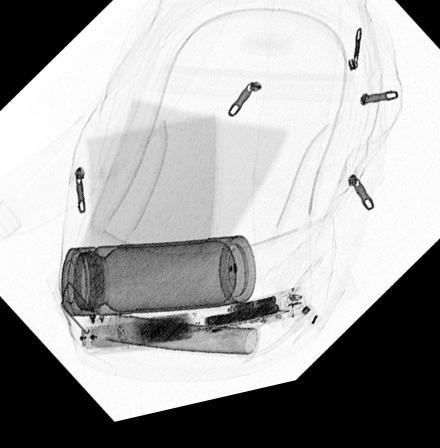Baton: (76, 299, 310, 360)
